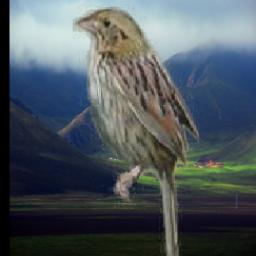Sparrow: (73, 5, 199, 256)
